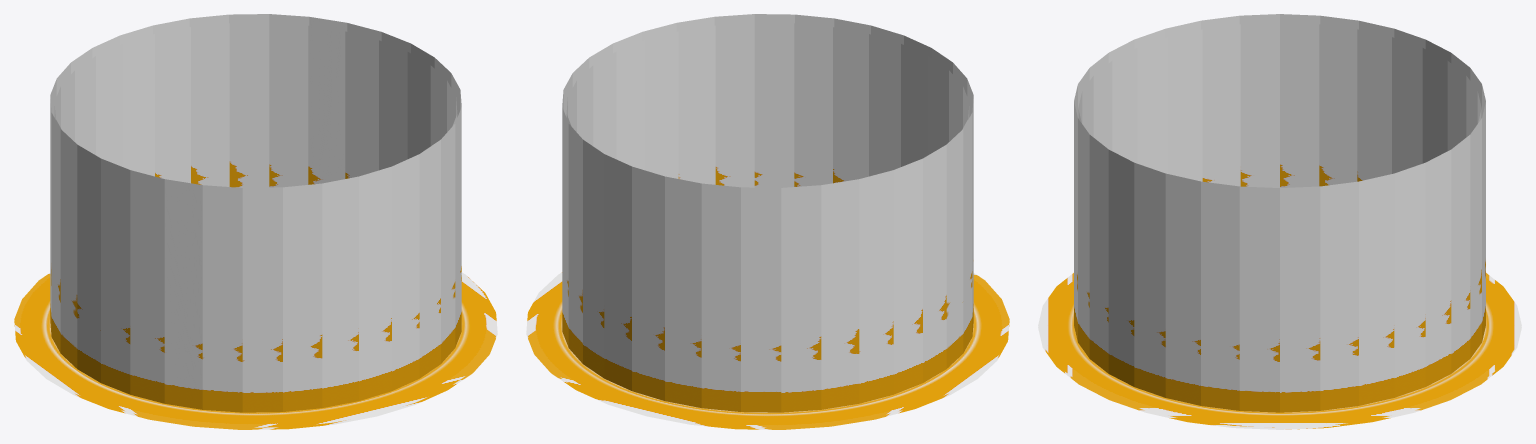
Rendered from teleport-cancel.fbx.
3 renders of one model, left to right at view 1: azimuth 30°, elevation 25°; view 2: azimuth 150°, elevation 25°; view 3: azimuth 270°, elevation 25°, orthographic.
Parts seen in each view (by area): view 1: Cylinder; view 2: Cylinder; view 3: Cylinder.
Boxes of the visible parts, x1,y1,x2,y2 form: Cylinder: [14, 14, 497, 429]; Cylinder: [526, 14, 1009, 429]; Cylinder: [1038, 14, 1521, 429].
Size of the model in its own units: 154 by 81.61 by 154.
1 material, 1 textured.
